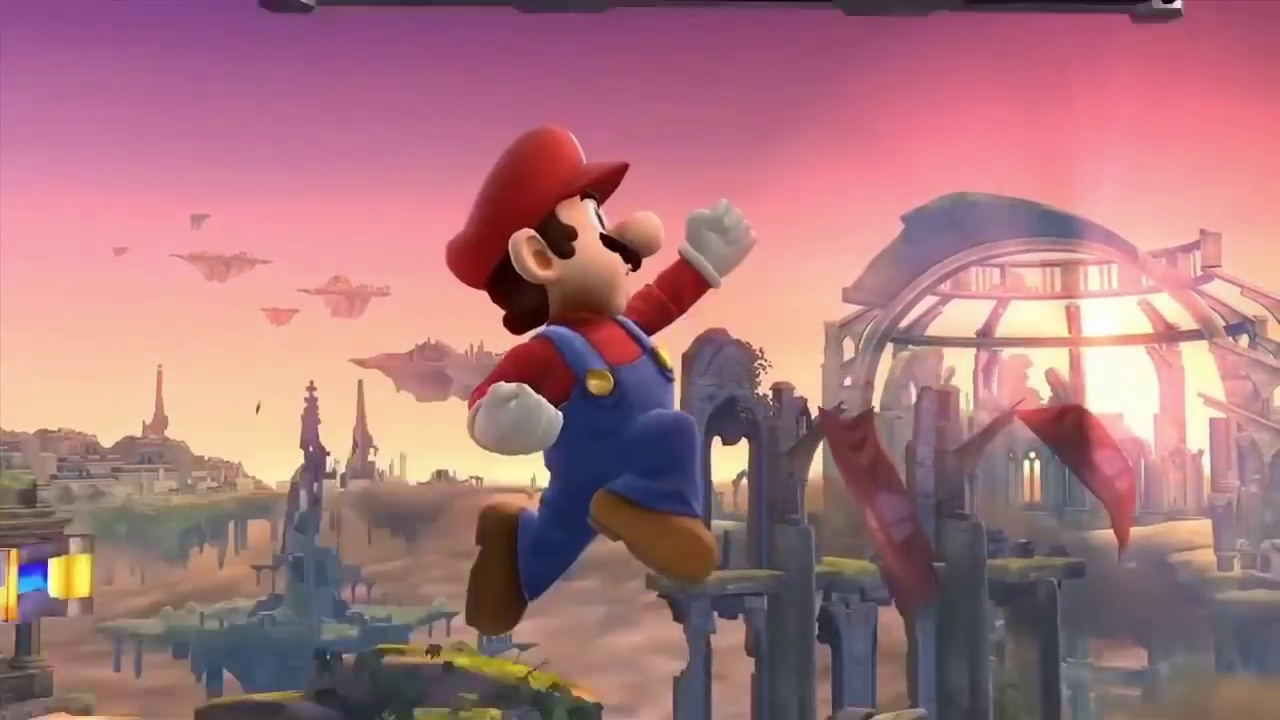Mario: (445, 124, 760, 634)
